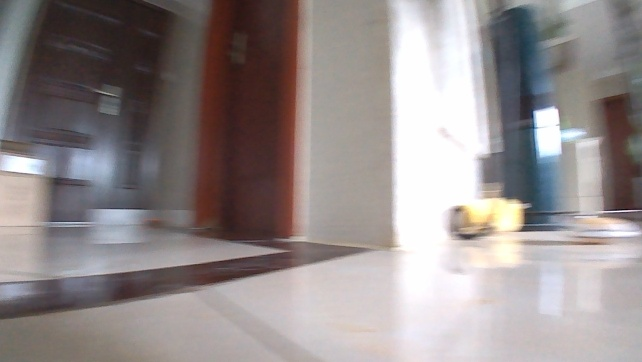door_anno: (0, 0, 177, 234), (192, 0, 300, 245)
